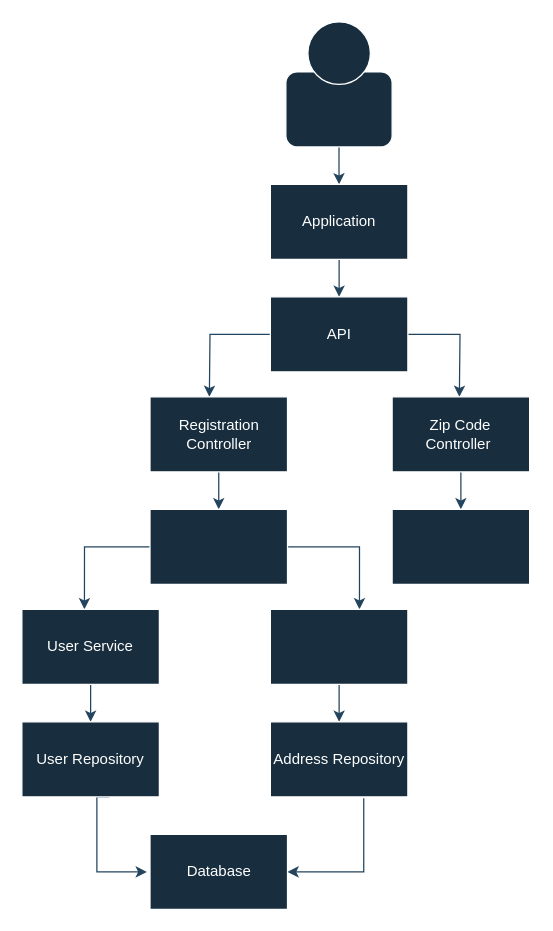
This 553x931 diagram has some shape labels left out. Here are the shapes that lost their labels. From the top down, the centre of each, then its label:
At (x=338, y=109): "User".
At (x=218, y=546): "Registration Service".
At (x=460, y=546): "API ViaCep Service".
At (x=338, y=646): "Address Service".
